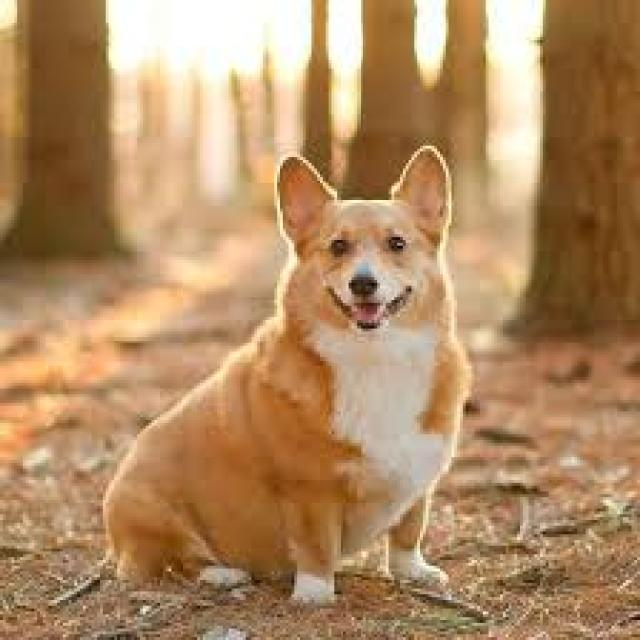CORGI: (108, 133, 490, 622)
